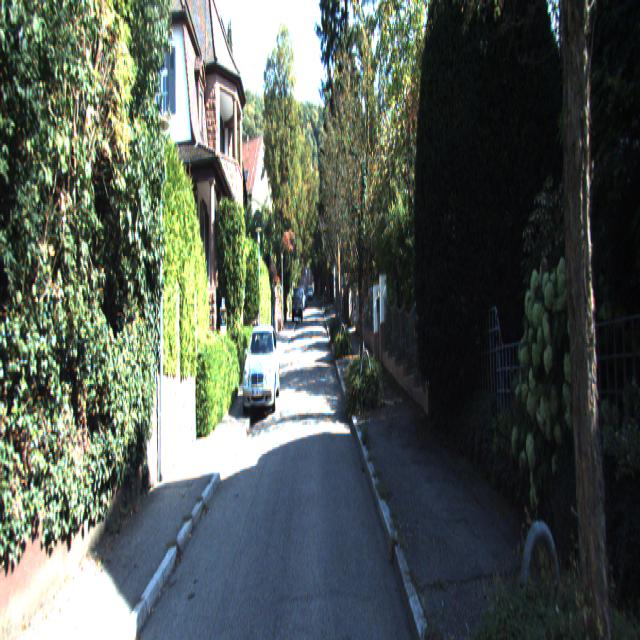Car: (241, 319, 280, 415), (292, 288, 304, 325)
